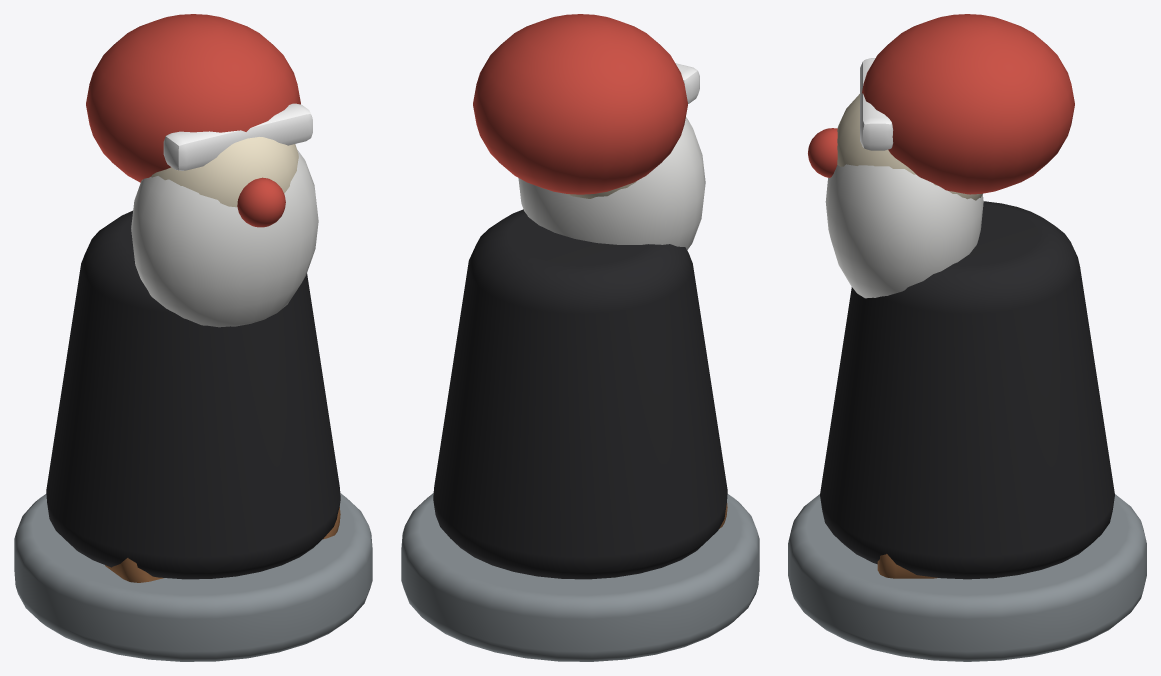
File: industrial.workshop.trinket_gnome.glb
3 renders of one model, left to right at view 1: azimuth 30°, elevation 25°; view 2: azimuth 150°, elevation 25°; view 3: azimuth 270°, elevation 25°, orthographic.
Parts seen in each view (by area): view 1: main__paint_222, main__paint_889, main__paint_c44, main__paint_eed, main__paint_edc, main__chrome_eee, main__paint_964; view 2: main__paint_222, main__paint_889, main__paint_c44, main__paint_eed, main__chrome_eee; view 3: main__paint_222, main__paint_889, main__paint_c44, main__paint_eed, main__paint_edc, main__chrome_eee, main__paint_964.
Part boxes in pixels (x1,y1,x2,y2): main__paint_222: (46, 210, 340, 579); main__paint_889: (14, 493, 372, 661); main__paint_c44: (86, 14, 300, 227); main__paint_eed: (131, 149, 318, 327); main__paint_edc: (142, 137, 298, 207); main__chrome_eee: (163, 103, 312, 170); main__paint_964: (105, 507, 340, 582); main__paint_222: (433, 209, 727, 579); main__paint_889: (401, 493, 759, 661); main__paint_c44: (473, 14, 687, 194); main__paint_eed: (518, 117, 705, 249); main__chrome_eee: (675, 63, 699, 103); main__paint_222: (820, 201, 1114, 579); main__paint_889: (788, 494, 1146, 661); main__paint_c44: (808, 14, 1074, 194); main__paint_eed: (825, 164, 983, 298); main__paint_edc: (837, 94, 982, 200); main__chrome_eee: (860, 58, 893, 150); main__paint_964: (877, 554, 937, 578).
Bounding box in the file's own units: 0.2 × 0.348 × 0.2.
